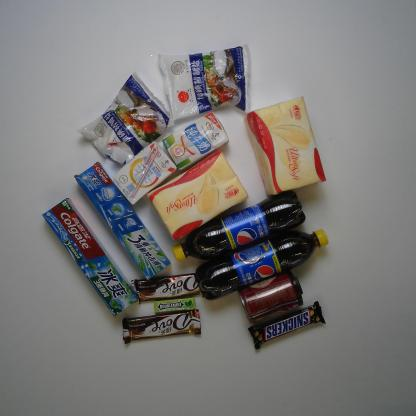Canned Food: (237, 272, 306, 324)
Chocolate: (243, 300, 328, 353), (122, 308, 204, 344), (125, 272, 208, 306)
Drink: (191, 224, 332, 303), (171, 187, 309, 262)
Gum: (150, 292, 199, 319)
Milk: (159, 107, 234, 170), (114, 139, 182, 207)
Personal Hygiene: (72, 157, 174, 283), (40, 197, 139, 320)
Seasoner: (72, 68, 177, 165), (160, 42, 254, 122)
Tissue: (146, 148, 252, 244), (241, 94, 329, 200)
